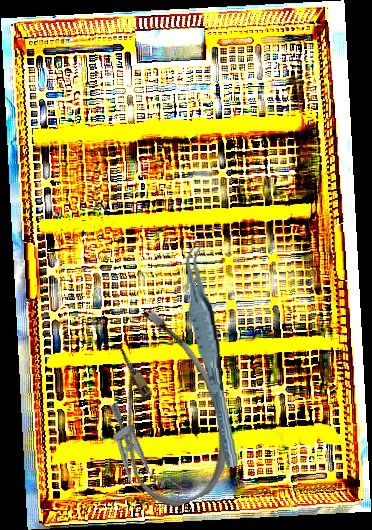Cannula: (75, 297, 254, 519)
Speculum: (89, 397, 187, 518)
Tissue Forceps: (183, 238, 240, 470)
